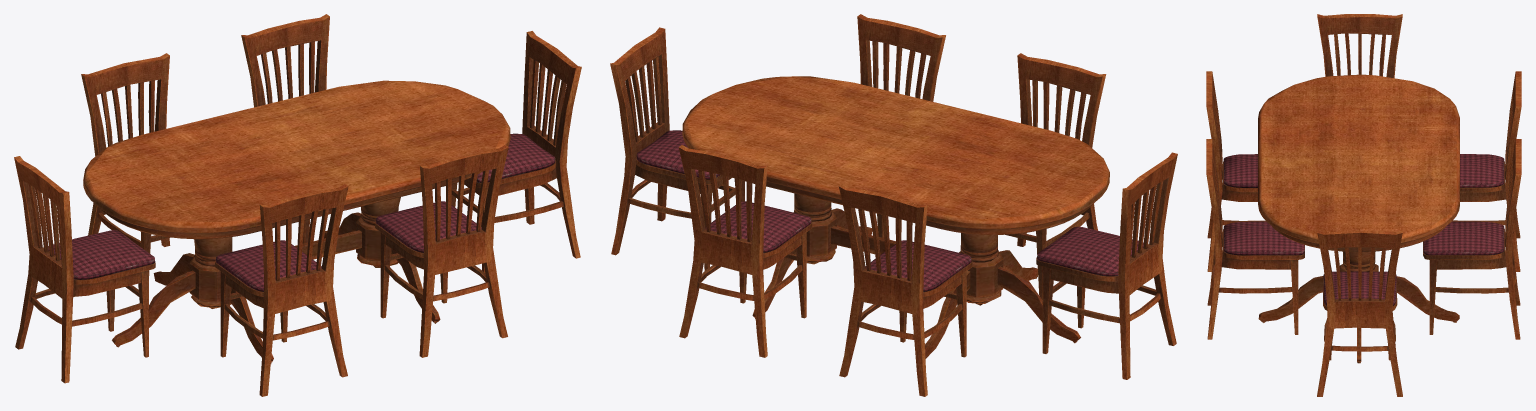
The model's file is table1-var1.glb.
3 views of the same model, side by side, from view 1: azimuth 30°, elevation 25°; view 2: azimuth 150°, elevation 25°; view 3: azimuth 270°, elevation 25° (orthographic). The views are drawn at different scales.
Visible parts, largest first — view 1: Table_Table_0, Chair6_Seat_5, Chair6_Seat_4, Chair6_Seat_1, Chair6_Seat_0, Chair6_Seat_2, Chair6_Seat_3; view 2: Table_Table_0, Chair6_Seat_2, Chair6_Seat_3, Chair6_Seat_1, Chair6_Seat_0, Chair6_Seat_4, Chair6_Seat_5; view 3: Table_Table_0, Chair6_Seat_0, Chair6_Seat_3, Chair6_Seat_5, Chair6_Seat_2, Chair6_Seat_1, Chair6_Seat_4.
Part boxes in pixels (x1,y1,x2,y2): Table_Table_0: (83, 80, 510, 363); Chair6_Seat_5: (375, 145, 508, 357); Chair6_Seat_4: (215, 184, 348, 396); Chair6_Seat_1: (14, 156, 155, 383); Chair6_Seat_0: (451, 31, 581, 273); Chair6_Seat_2: (81, 53, 170, 275); Chair6_Seat_3: (241, 14, 361, 243); Table_Table_0: (682, 76, 1109, 358); Chair6_Seat_2: (838, 184, 972, 396); Chair6_Seat_3: (678, 145, 812, 357); Chair6_Seat_1: (1036, 152, 1177, 379); Chair6_Seat_0: (610, 27, 744, 270); Chair6_Seat_4: (1005, 53, 1106, 299); Chair6_Seat_5: (857, 14, 945, 238); Table_Table_0: (1258, 74, 1459, 363); Chair6_Seat_0: (1317, 230, 1402, 396); Chair6_Seat_3: (1423, 139, 1521, 339); Chair6_Seat_5: (1206, 139, 1304, 339); Chair6_Seat_2: (1452, 71, 1521, 271); Chair6_Seat_1: (1317, 14, 1402, 78); Chair6_Seat_4: (1206, 71, 1265, 271).
Size of the model in its own units: 2.61 by 0.9144 by 1.58.
Materials: 3 (3 with a texture image).
